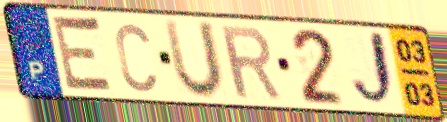2: (289, 26, 346, 108)
C: (112, 20, 159, 94)
E: (50, 11, 118, 98)
J: (348, 28, 399, 111)
R: (217, 24, 285, 102)
U: (161, 17, 228, 102)
